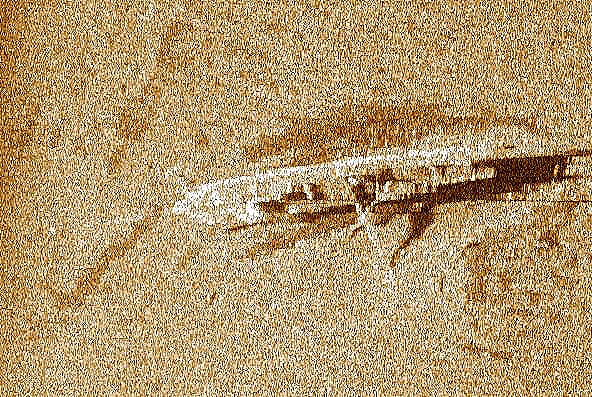ship: (160, 142, 499, 299)
